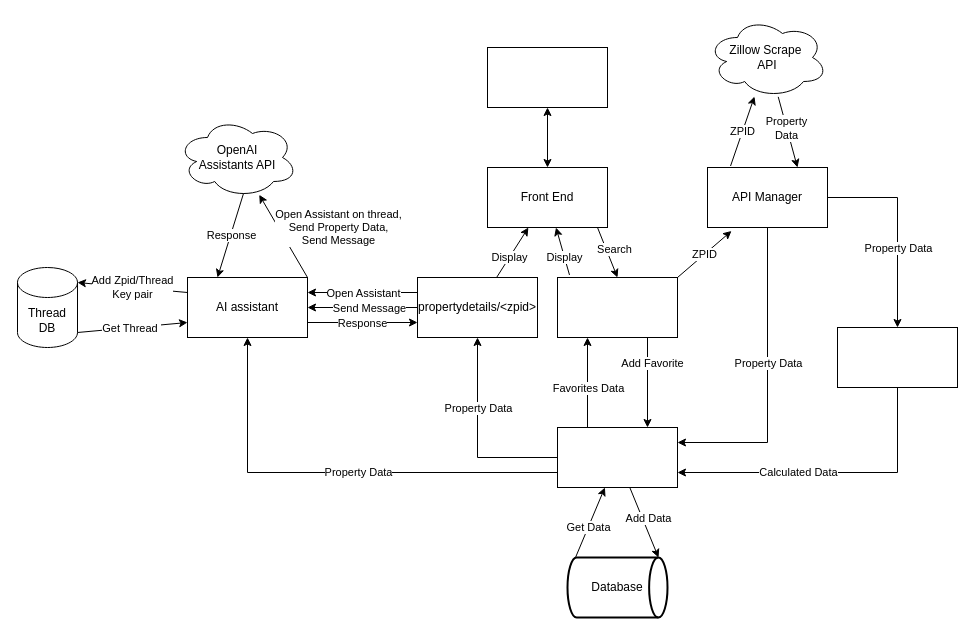
Image size: 975x636. Some labels were removed from this diagram. Each missing label, with the centre of its shape:
Database Manager: the point at 617,457
Evaluation Functions: the point at 897,357
propertysearch.html: the point at 617,307
User: the point at 547,77
